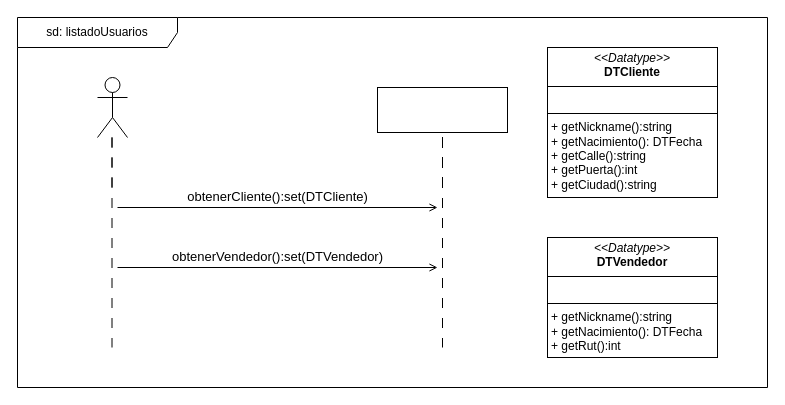
This 785x405 diagram has some shape labels left out. The shapes that lost their labels are listed below. From the top down, each one's centre as x and y in pixels, then its label:
At pixel 112 107: "Administrador".
At pixel 442 109: ": Sistema".
